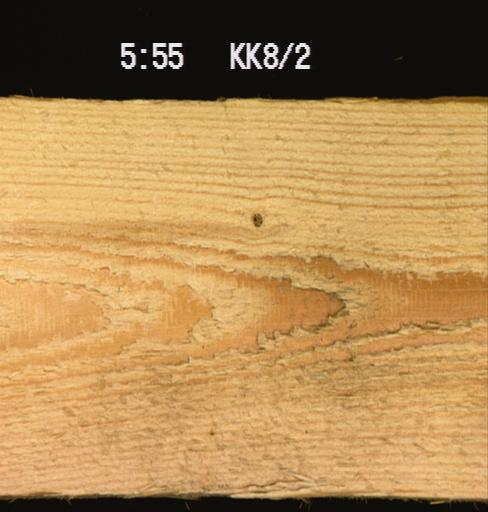dry_knot: (251, 210, 261, 221)
